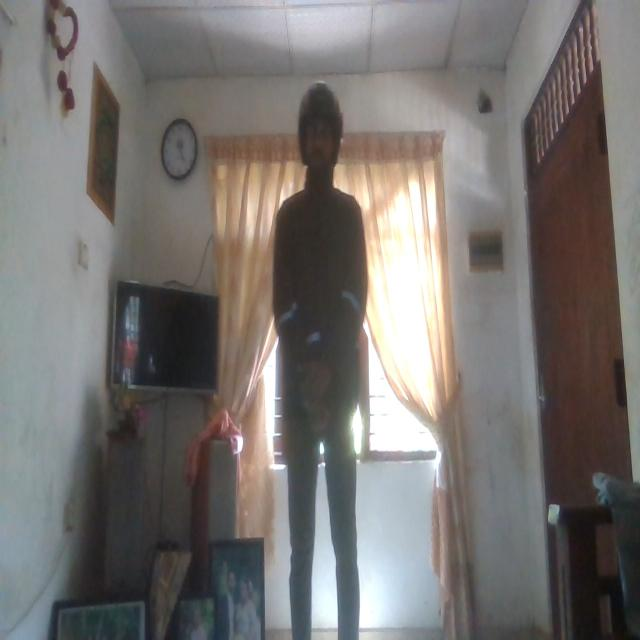Helmet_Wearer: (293, 81, 344, 179)
Jacket_Wearer: (269, 186, 375, 444)
Person: (270, 80, 376, 640)
